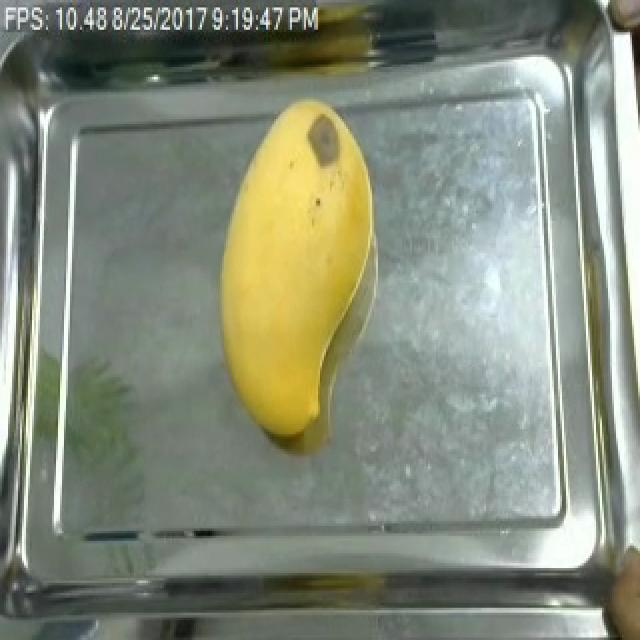fruit: (200, 87, 394, 451)
